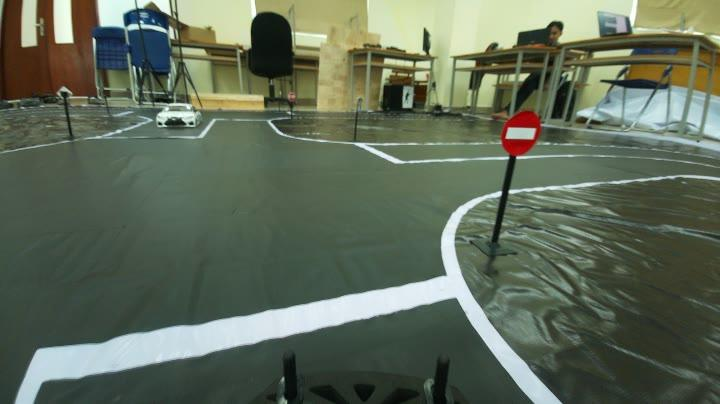no_entry: (502, 113, 544, 157)
